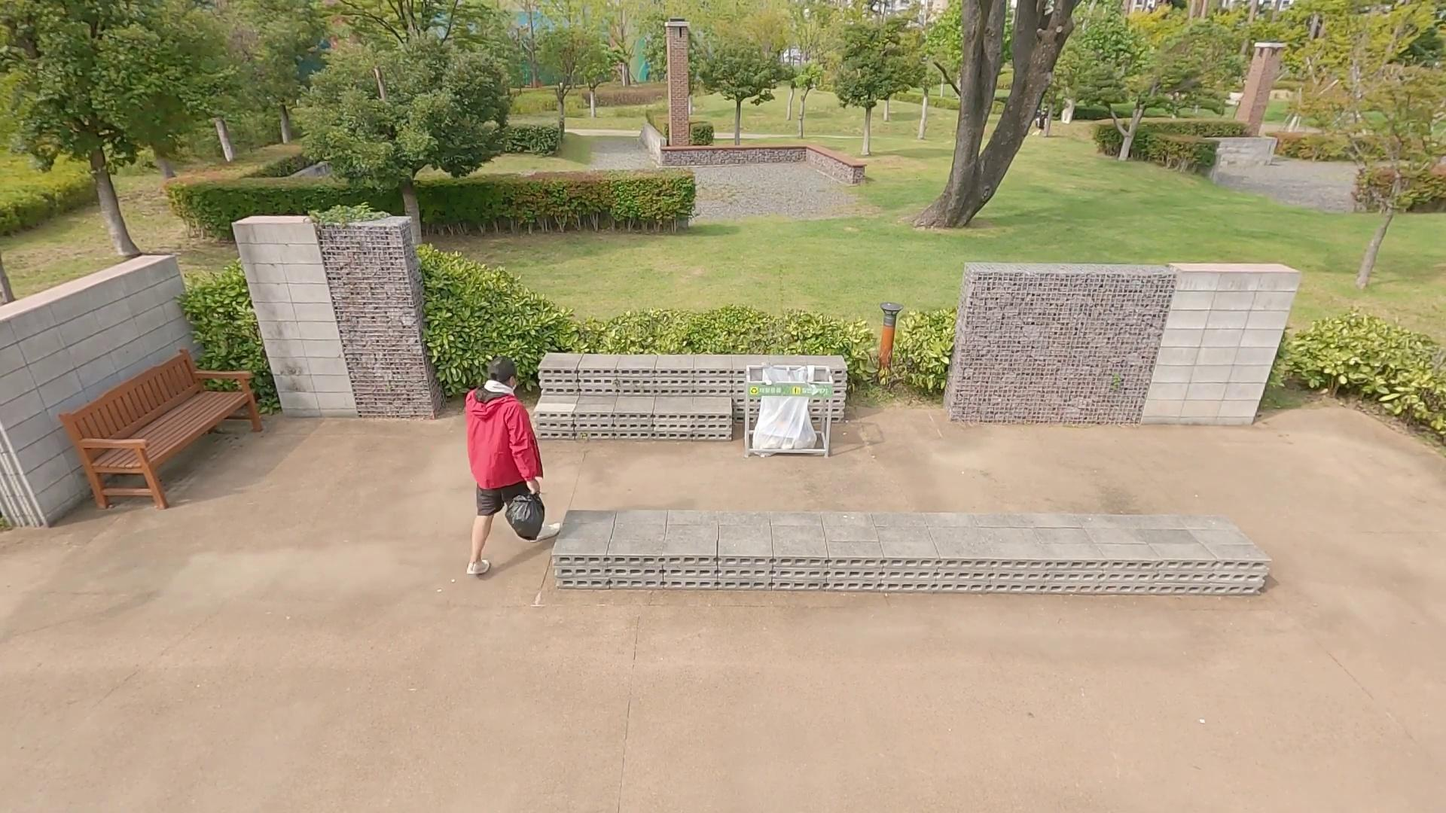person: (463, 354, 563, 582)
trash: (507, 489, 546, 540)
